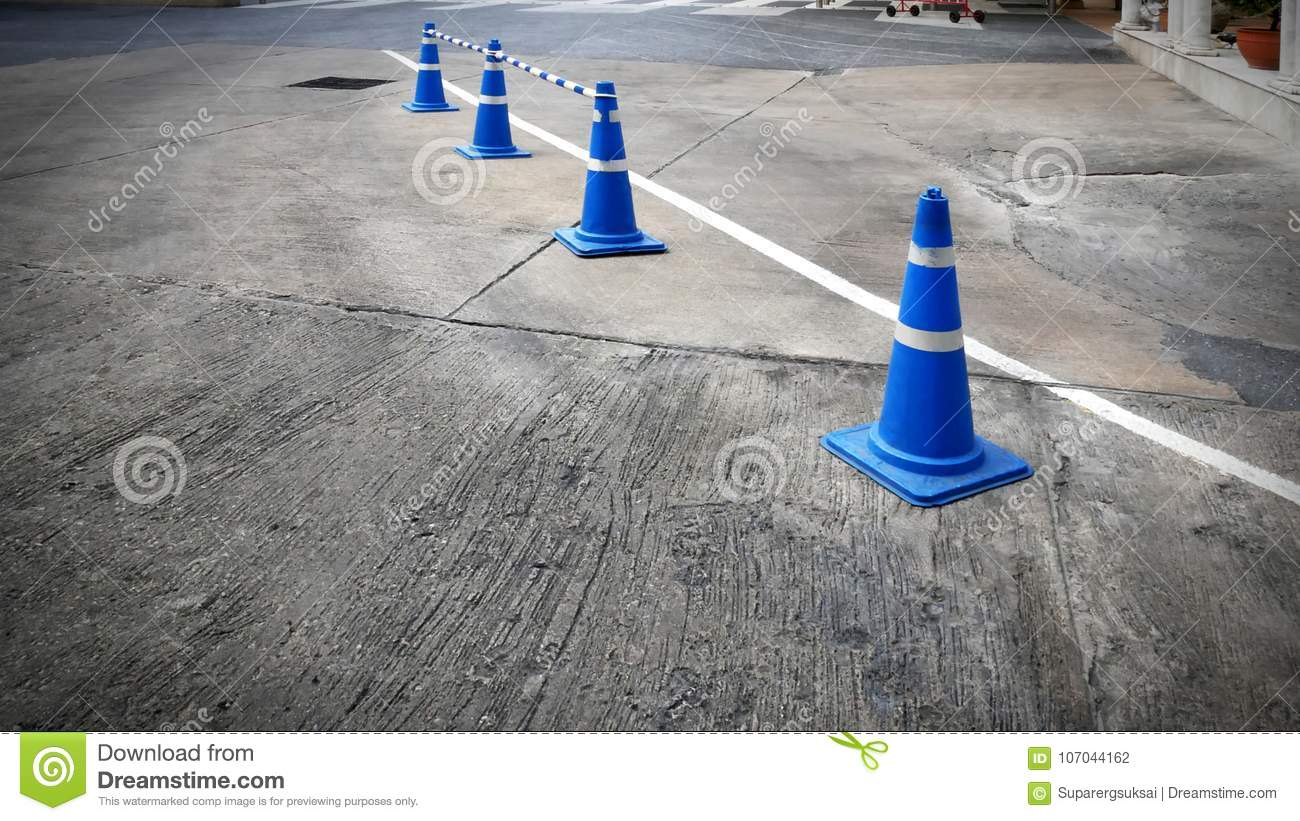cone: (821, 183, 1046, 515), (534, 83, 675, 261), (453, 39, 536, 166), (399, 17, 456, 115)
